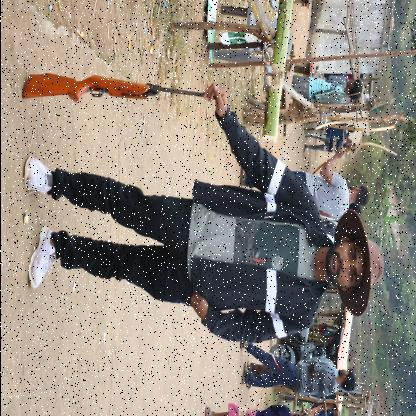rifle: (19, 70, 223, 106)
